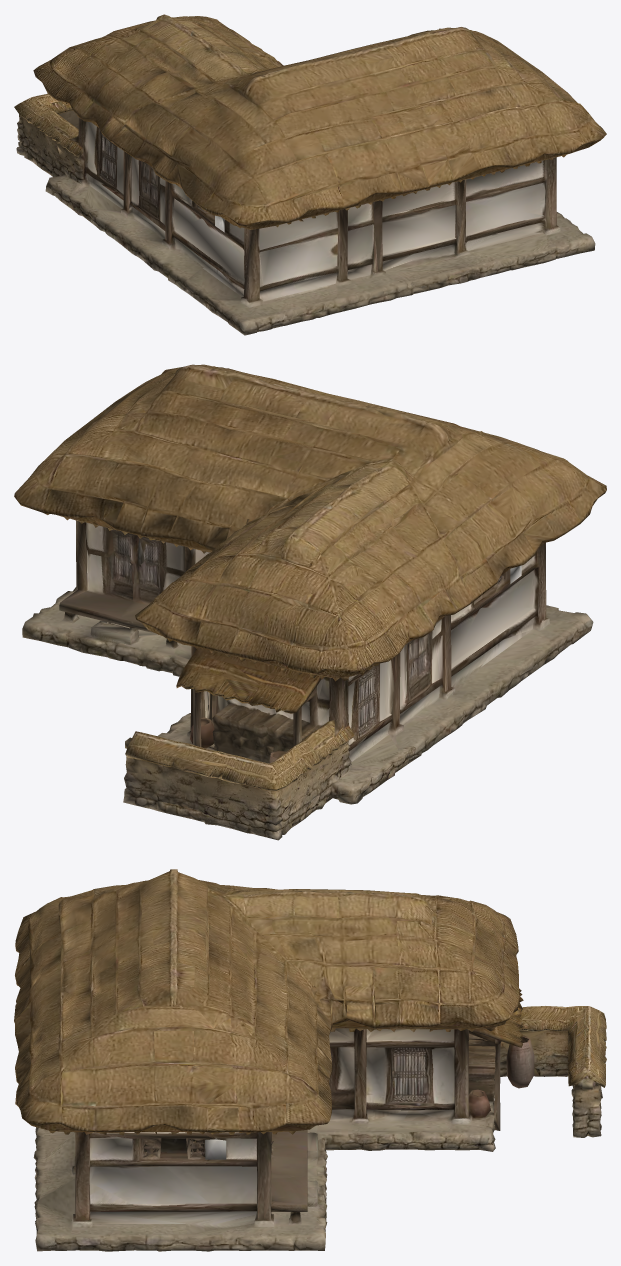
Rendered from choga.glb.
3 renders of one model, top to bottom at view 1: azimuth 30°, elevation 25°; view 2: azimuth 150°, elevation 25°; view 3: azimuth 270°, elevation 25°, orthographic. The views are drawn at different scales.
Parts seen in each view (by area): view 1: tripo_node_44a11992-955a-4f3e-8061-3a89980a5363; view 2: tripo_node_44a11992-955a-4f3e-8061-3a89980a5363; view 3: tripo_node_44a11992-955a-4f3e-8061-3a89980a5363.
Boxes of the visible parts, x1,y1,x2,y2 form: tripo_node_44a11992-955a-4f3e-8061-3a89980a5363: (14,14,606,335); tripo_node_44a11992-955a-4f3e-8061-3a89980a5363: (14,364,606,840); tripo_node_44a11992-955a-4f3e-8061-3a89980a5363: (14,869,606,1251).
Bounding box in the file's own units: 0.8378 × 0.4229 × 0.9814.
1 material, 1 textured.
